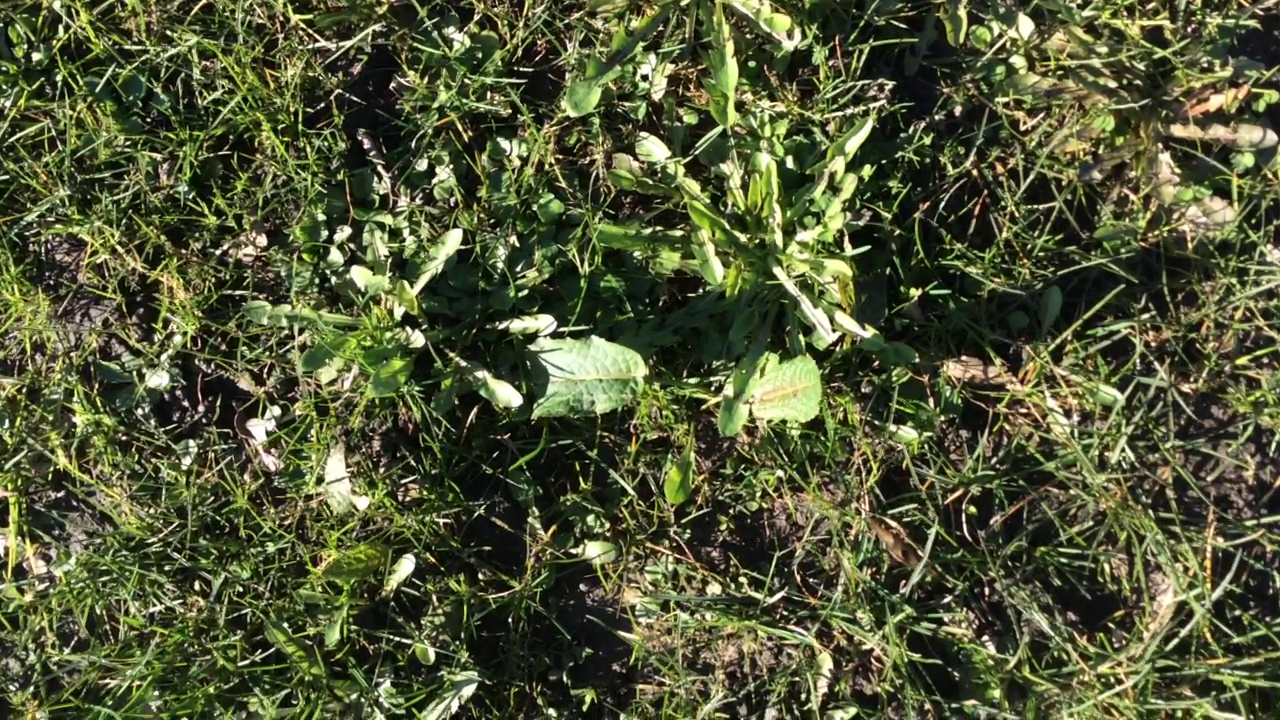rumex: (510, 341, 648, 419), (727, 363, 824, 425)
